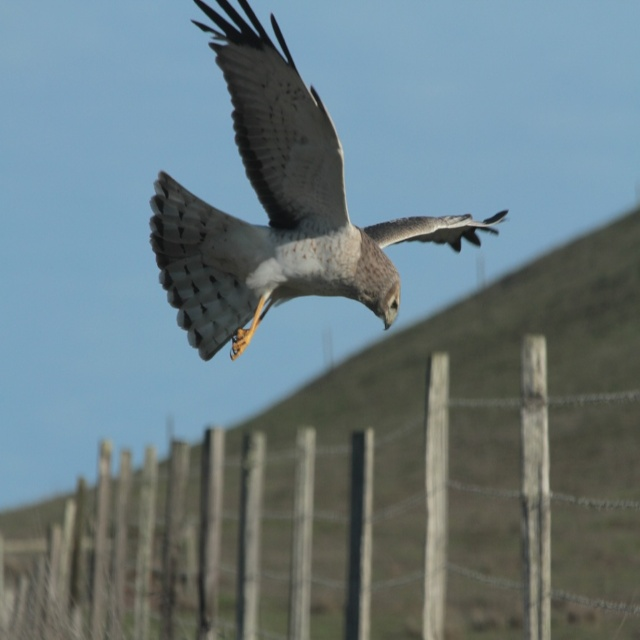Eagle: (148, 0, 512, 363)
